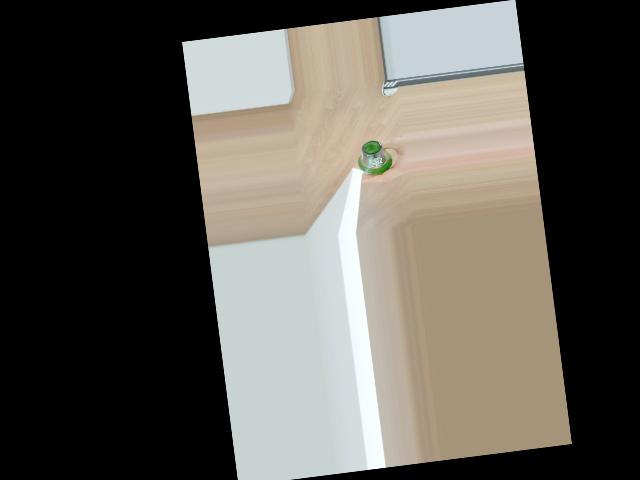beer: (355, 138, 394, 176)
